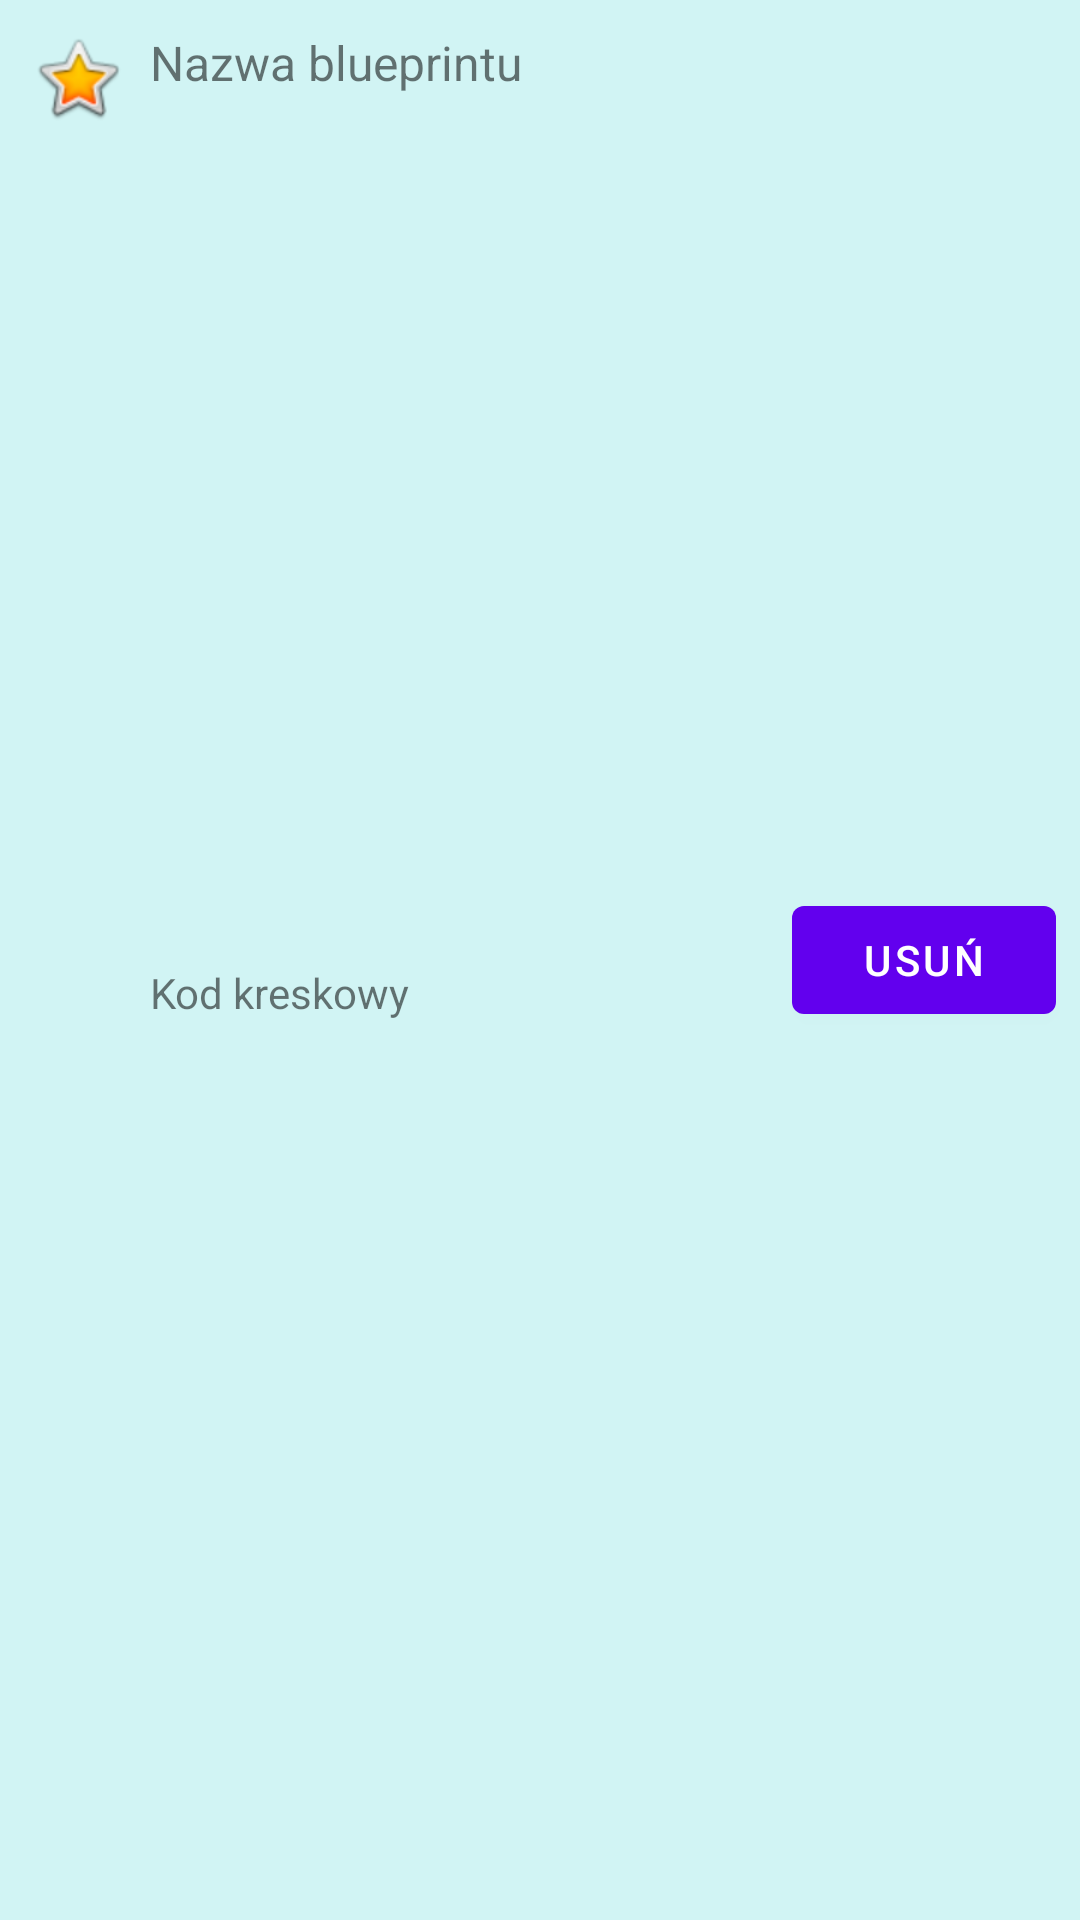

Icons on this 1080w x 1920h Android screen, each with its box as Rect(x1, y1, x2, y2):
star on: Rect(39, 40, 119, 118)
